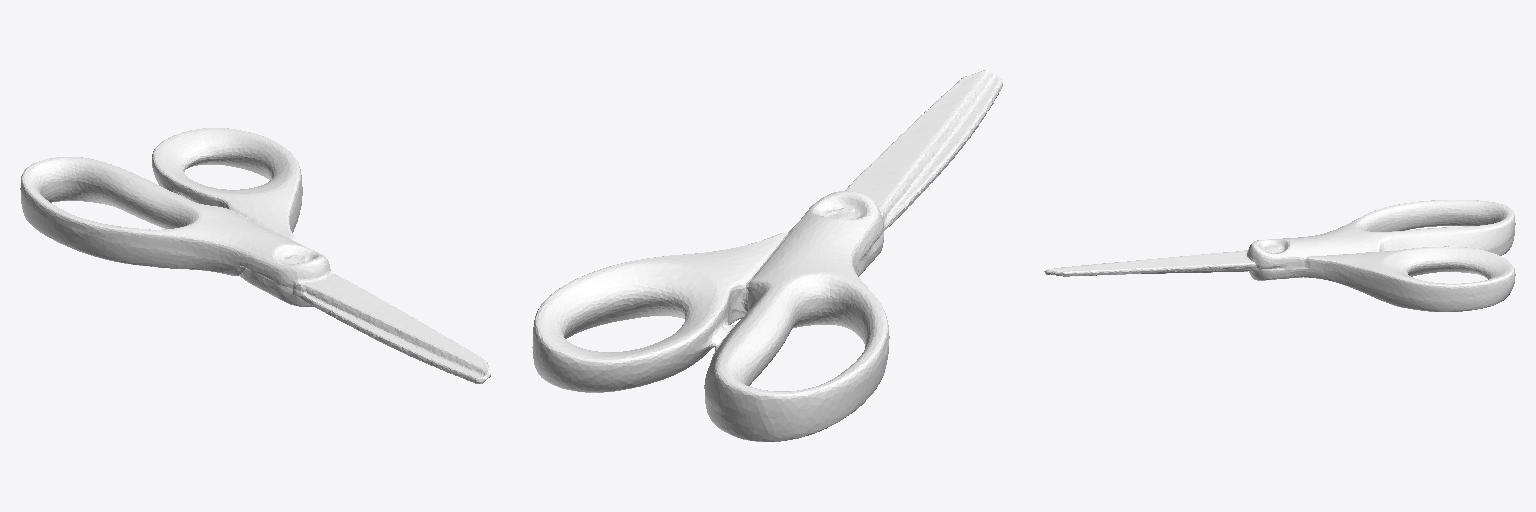
The robot description file, URDF, robot "scissors":
<robot name="scissors">
    <link name="base_link">
        <visual>
            <origin xyz="0.0 0.0 -0.0" rpy="0.0 0.0 0.0" />
            <geometry>
                <mesh filename="scissors/textured.obj" scale="1 1 1" />
            </geometry>
            <material name="texture">
                <color rgba="1.0 1.0 1.0 1.0" />
            </material>
        </visual>
        <collision>
            <origin xyz="0.0 0.0 -0.0" rpy="0.0 0.0 0.0" />
            <geometry>
                <mesh filename="scissors/textured_coacd_0.stl" scale="1 1 1" />
            </geometry>
        </collision>
        <collision>
            <origin xyz="0.0 0.0 -0.0" rpy="0.0 0.0 0.0" />
            <geometry>
                <mesh filename="scissors/textured_coacd_1.stl" scale="1 1 1" />
            </geometry>
        </collision>
        <collision>
            <origin xyz="0.0 0.0 -0.0" rpy="0.0 0.0 0.0" />
            <geometry>
                <mesh filename="scissors/textured_coacd_2.stl" scale="1 1 1" />
            </geometry>
        </collision>
        <collision>
            <origin xyz="0.0 0.0 -0.0" rpy="0.0 0.0 0.0" />
            <geometry>
                <mesh filename="scissors/textured_coacd_3.stl" scale="1 1 1" />
            </geometry>
        </collision>
        <collision>
            <origin xyz="0.0 0.0 -0.0" rpy="0.0 0.0 0.0" />
            <geometry>
                <mesh filename="scissors/textured_coacd_4.stl" scale="1 1 1" />
            </geometry>
        </collision>
        <inertial>
            <mass value="0.082" />
            <inertia ixx="1e-3" ixy="0.0" ixz="0.0" iyy="1e-3" iyz="0.0" izz="1e-3" />
        </inertial>
    </link>
</robot>

--- Render facts (derived) ---
3 views of the same robot in one strip: view 1: azimuth 30°, elevation 25°; view 2: azimuth 150°, elevation 25°; view 3: azimuth 270°, elevation 25° (orthographic).
Model scissors with 1 links and 0 joints (none), rooted at base_link, posed every joint at zero.
Links seen in each view (by area): view 1: base_link; view 2: base_link; view 3: base_link.
Link boxes in pixels (box(x1,y1,x2,y2)): base_link: box(20, 128, 490, 383); base_link: box(532, 70, 1002, 441); base_link: box(1044, 200, 1515, 311).
Size in the robot's own frame: 0.0878 by 0.1985 by 0.0154 metres.
Meshes: 1 distinct files referenced, 1 mesh visuals loaded (1 OBJ).